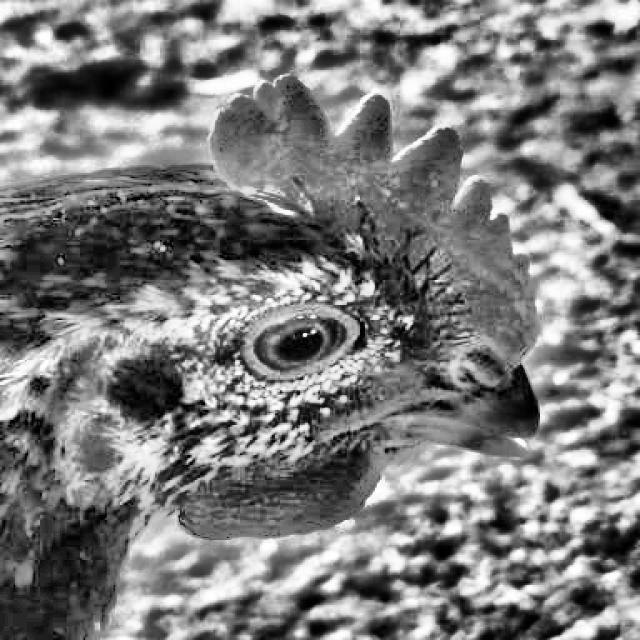Healthy: (215, 266, 377, 406)
